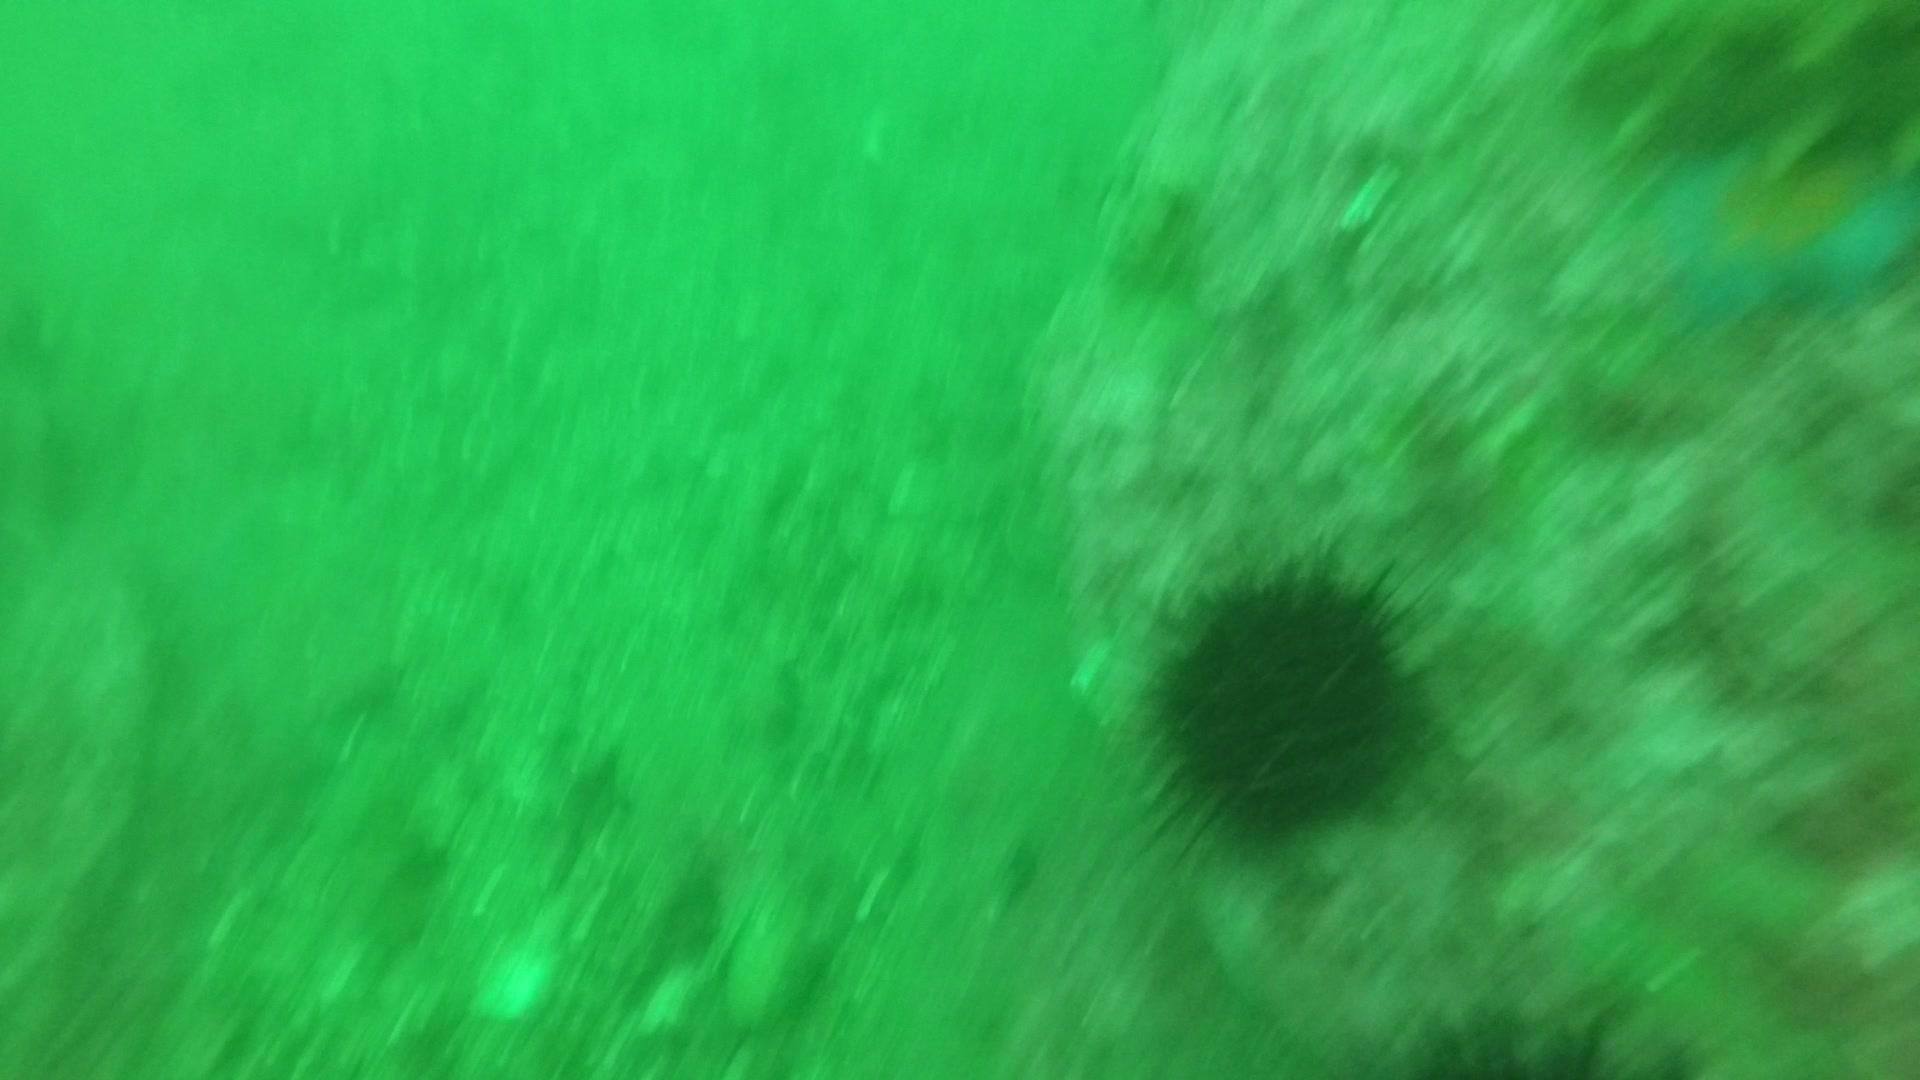echinus: (1127, 549, 1439, 851)
starfish: (1640, 116, 1917, 338)
